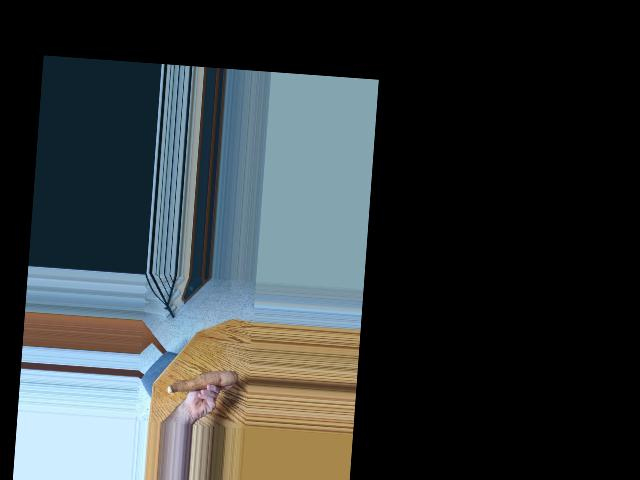sweet_potato: (166, 365, 239, 400)
